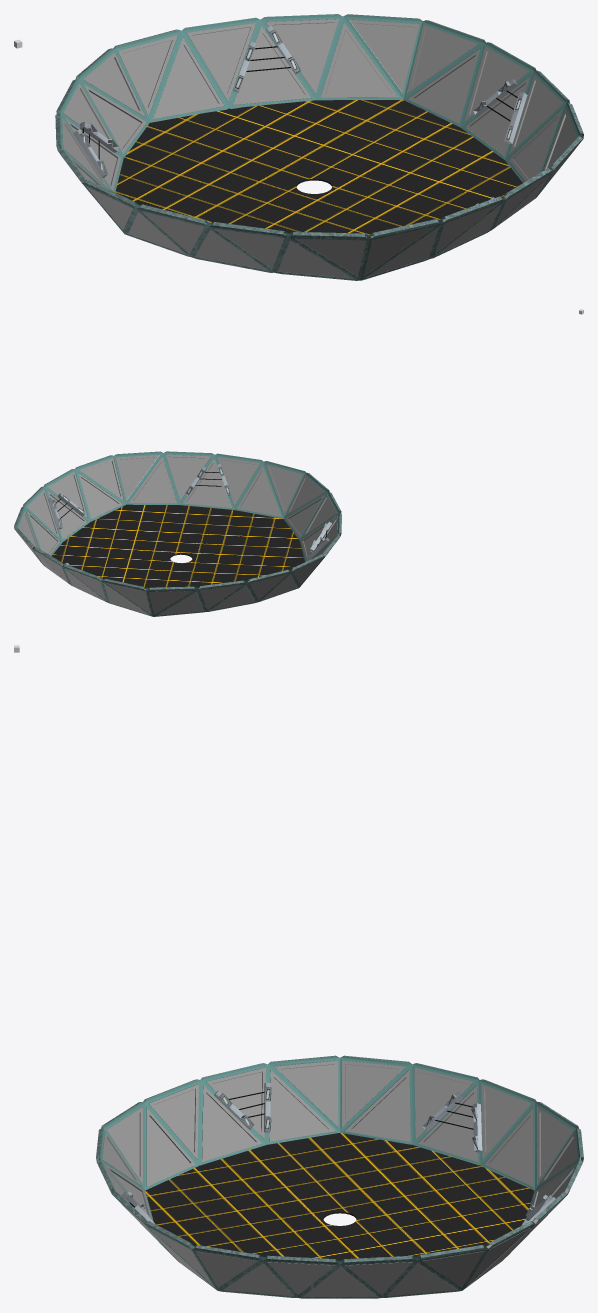
3 renders of one model, top to bottom at view 1: azimuth 30°, elevation 25°; view 2: azimuth 150°, elevation 25°; view 3: azimuth 270°, elevation 25°, orthographic. The views are drawn at different scales.
Visible parts, largest first — view 1: Estructura esfera001, Suelo_D001; view 2: Estructura esfera001, Suelo_D001; view 3: Estructura esfera001, Suelo_D001.
Boxes of the visible parts, x1,y1,x2,y2 form: Estructura esfera001: (55,14,583,280); Suelo_D001: (115,100,522,235); Estructura esfera001: (14,451,341,616); Suelo_D001: (52,504,304,588); Estructura esfera001: (96,1055,583,1298); Suelo_D001: (145,1133,534,1260).
Bounding box in the file's own units: 132 × 70.97 × 101.
Materials: 6 (3 with a texture image).
